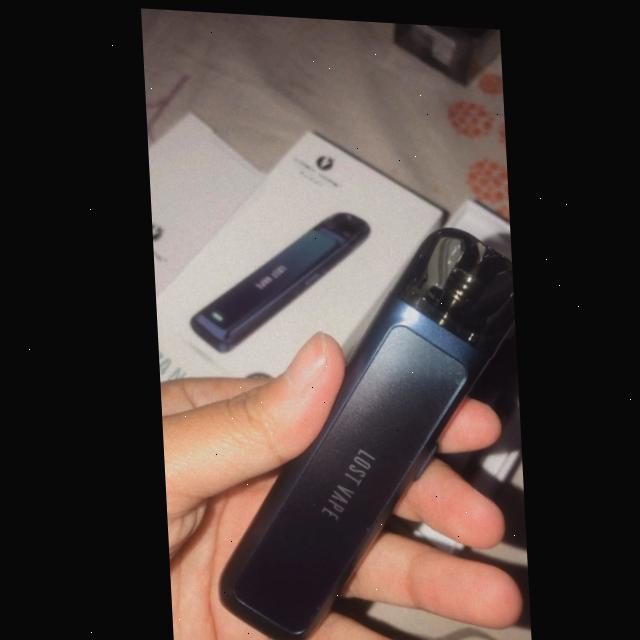vape: (195, 209, 525, 640), (177, 198, 375, 361)
